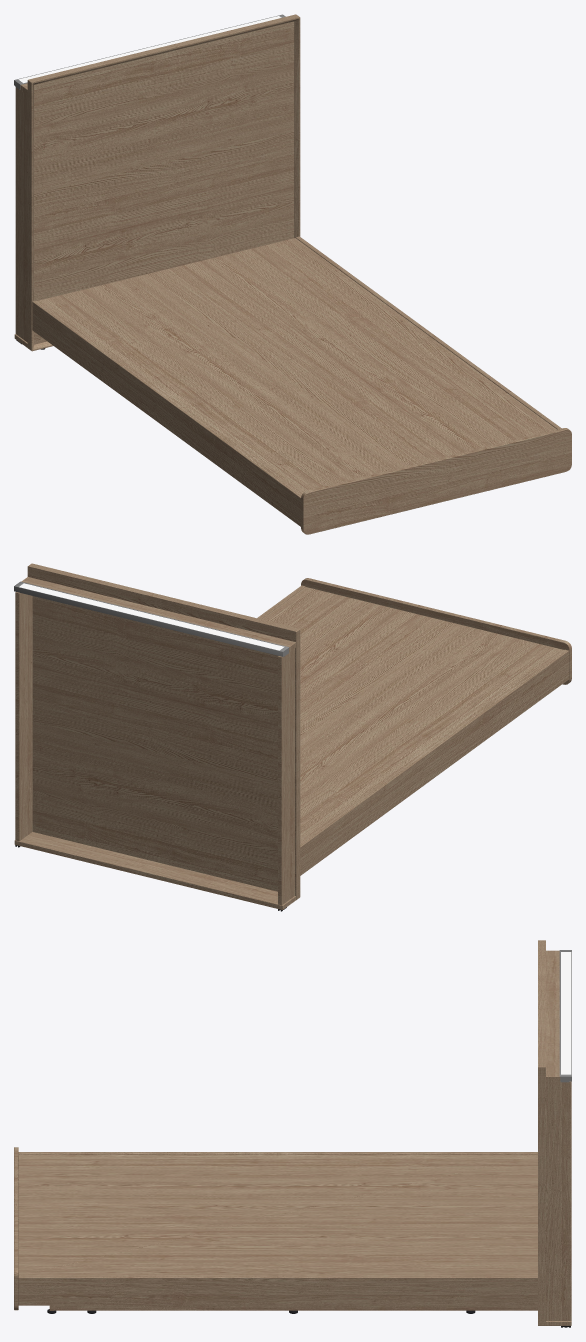
Rendered from adult_bed.glb.
The picture shows the model from 3 angles, top to bottom: view 1: azimuth 30°, elevation 25°; view 2: azimuth 150°, elevation 25°; view 3: azimuth 270°, elevation 25°; orthographic projection. The views are drawn at different scales.
Parts seen in each view (by area): view 1: BP_AAIB01914; view 2: BP_AAIB01914; view 3: BP_AAIB01914.
Part boxes in pixels (x1,y1,x2,y2): BP_AAIB01914: (14, 14, 571, 534); BP_AAIB01914: (14, 563, 571, 911); BP_AAIB01914: (14, 940, 571, 1327).
Size of the model in its own units: 1.16 by 1.12 by 2.17.
4 materials, 1 textured.
